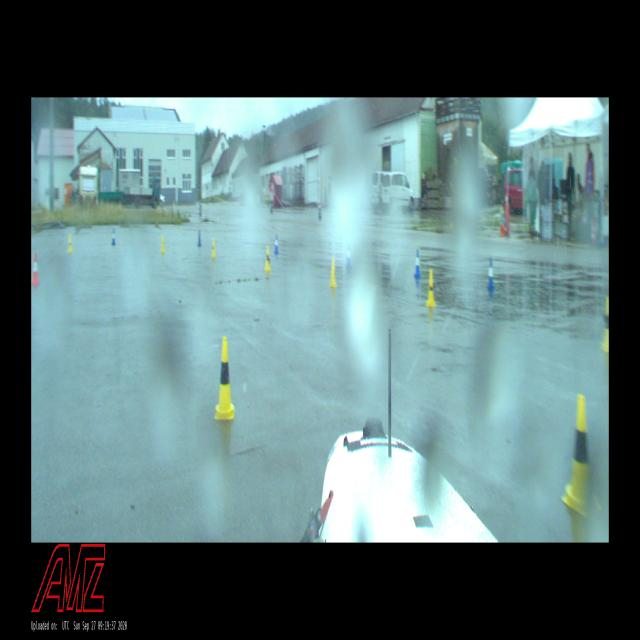blue_cone: (486, 259, 494, 290), (414, 249, 421, 278), (346, 242, 352, 269), (273, 233, 279, 255), (198, 229, 202, 248), (112, 228, 115, 245)
orange_cone: (32, 253, 40, 285)
yellow_cone: (561, 393, 602, 519), (214, 336, 236, 419), (426, 269, 436, 306), (602, 297, 608, 351), (329, 257, 337, 288), (264, 246, 271, 271), (160, 234, 166, 254), (211, 238, 216, 258), (68, 235, 72, 253)
